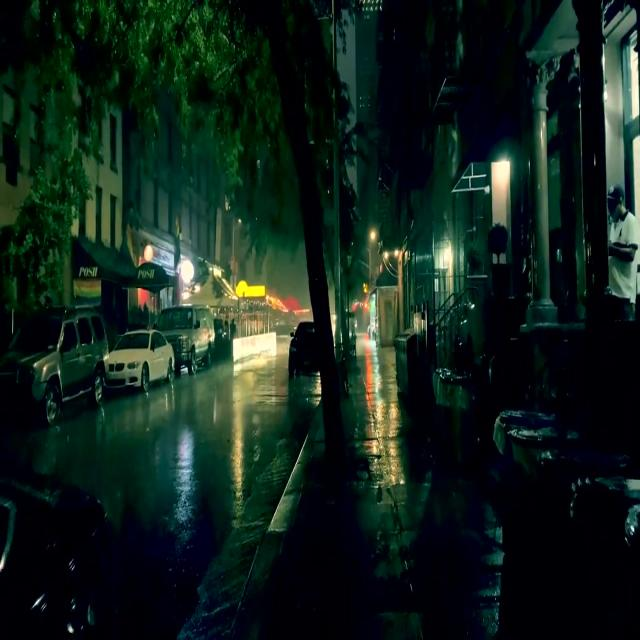Car: (4, 311, 109, 423), (107, 329, 171, 394), (156, 309, 211, 376)
